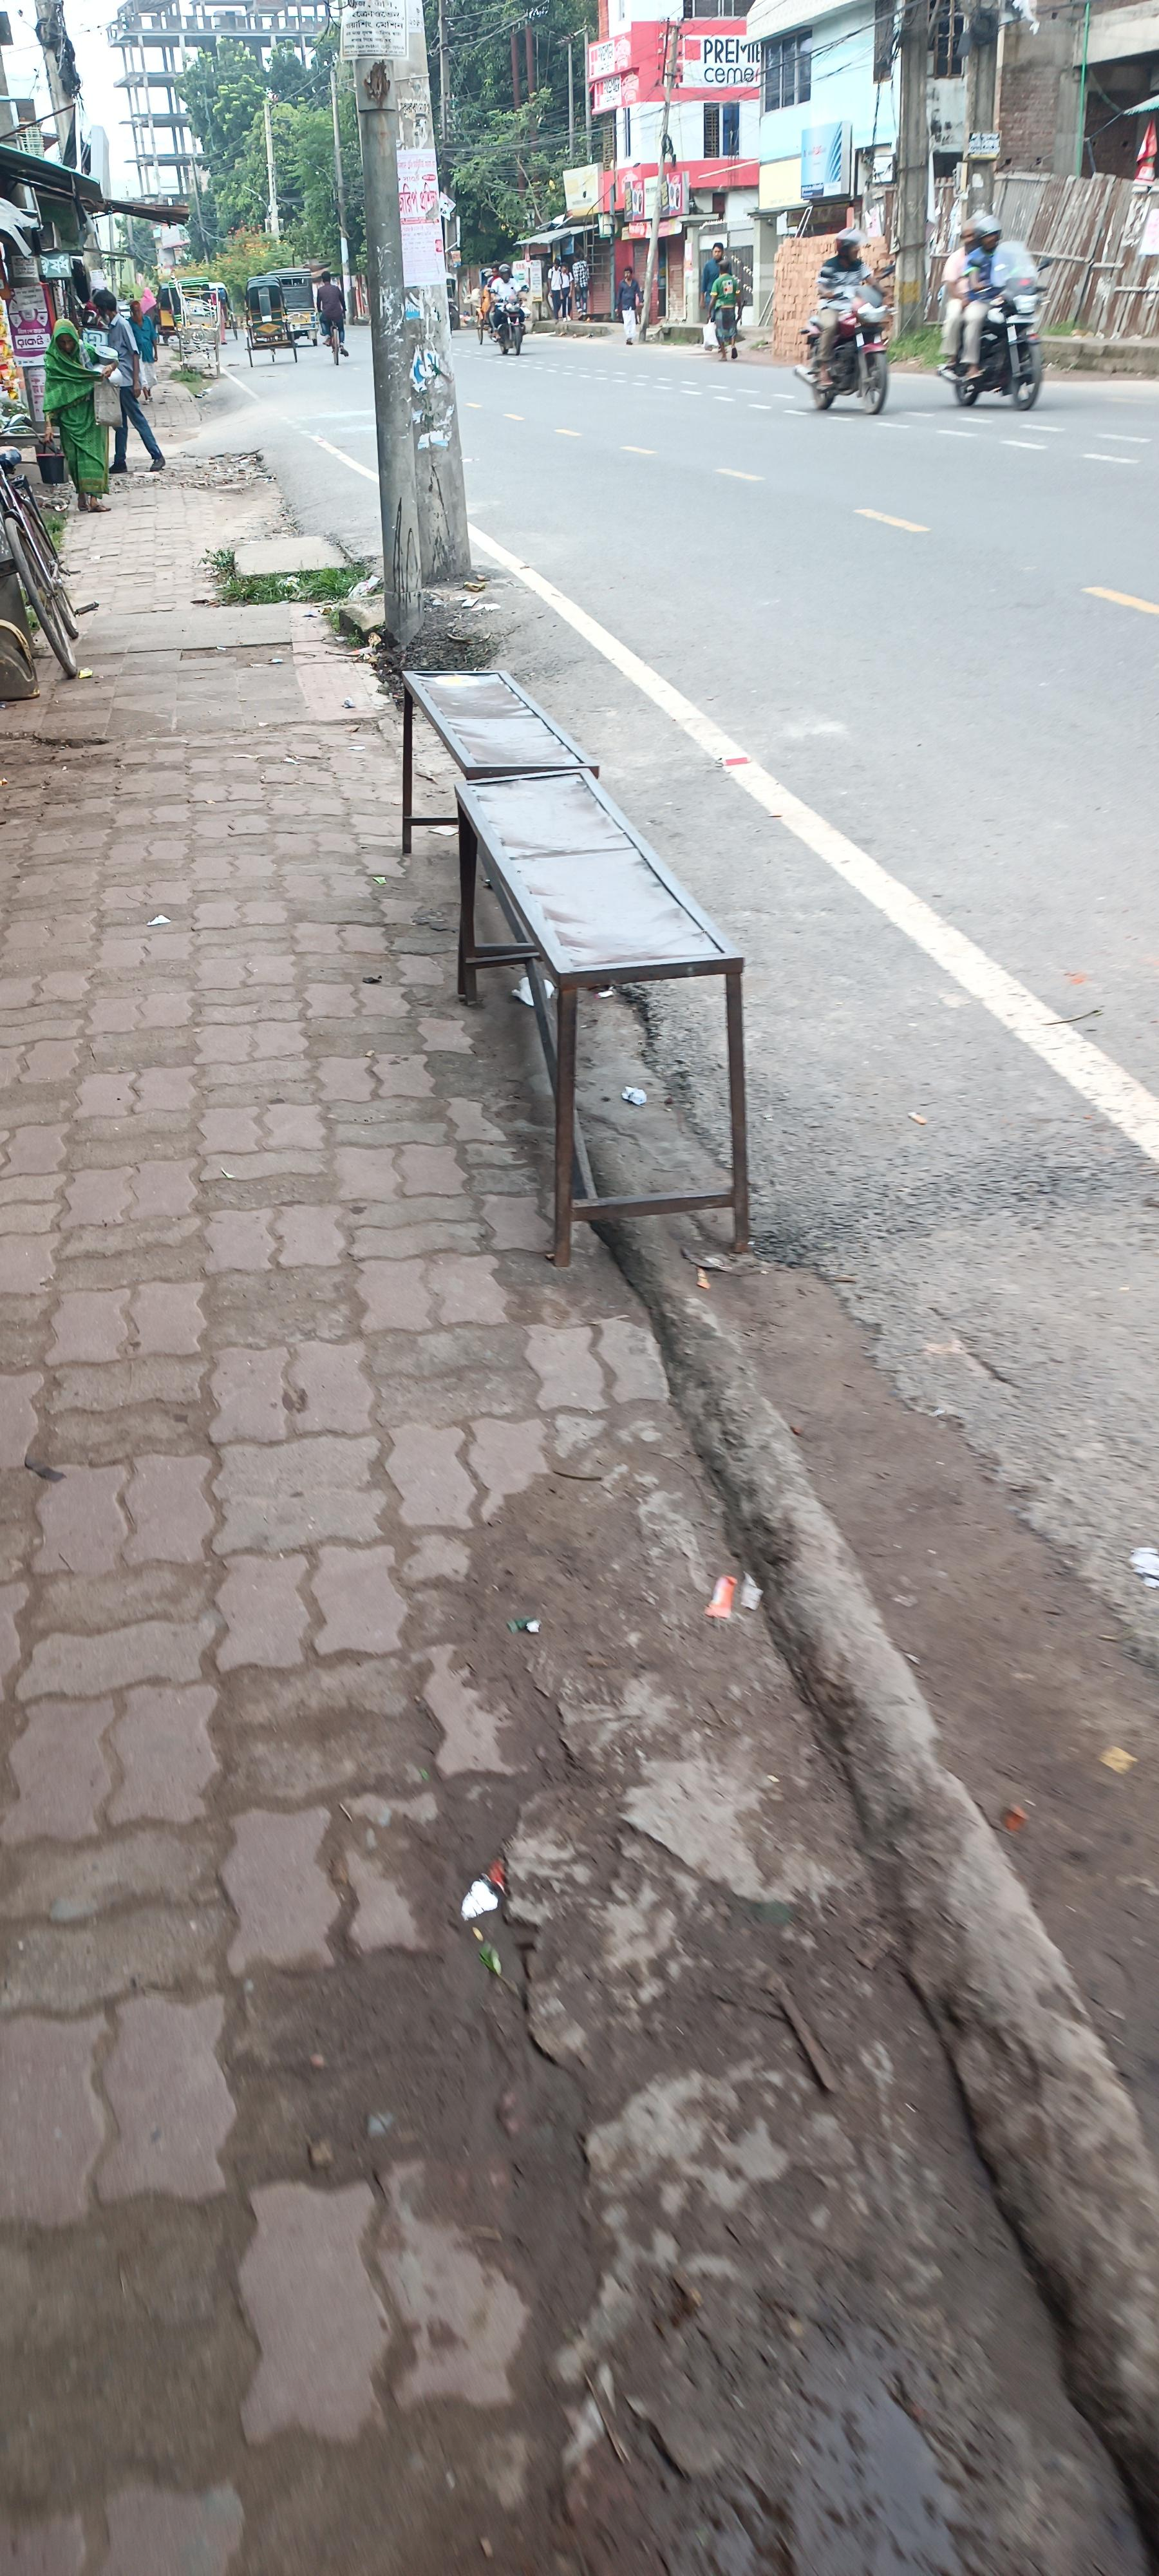Fallen-tree: (937, 271, 1051, 409), (793, 271, 898, 414), (491, 297, 529, 355)
Garbage: (450, 766, 754, 1267), (381, 600, 579, 862)
Garbage-bin: (84, 289, 166, 471), (43, 320, 118, 513), (808, 228, 886, 386), (709, 258, 745, 360), (314, 268, 348, 363), (617, 268, 644, 343), (548, 261, 571, 320)
Light-pole: (315, 77, 527, 701)
Pothole: (5, 398, 883, 2564)
Traffic-cone: (243, 268, 318, 347), (163, 278, 231, 340)
